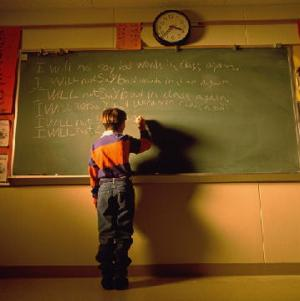person: (89, 109, 150, 288)
